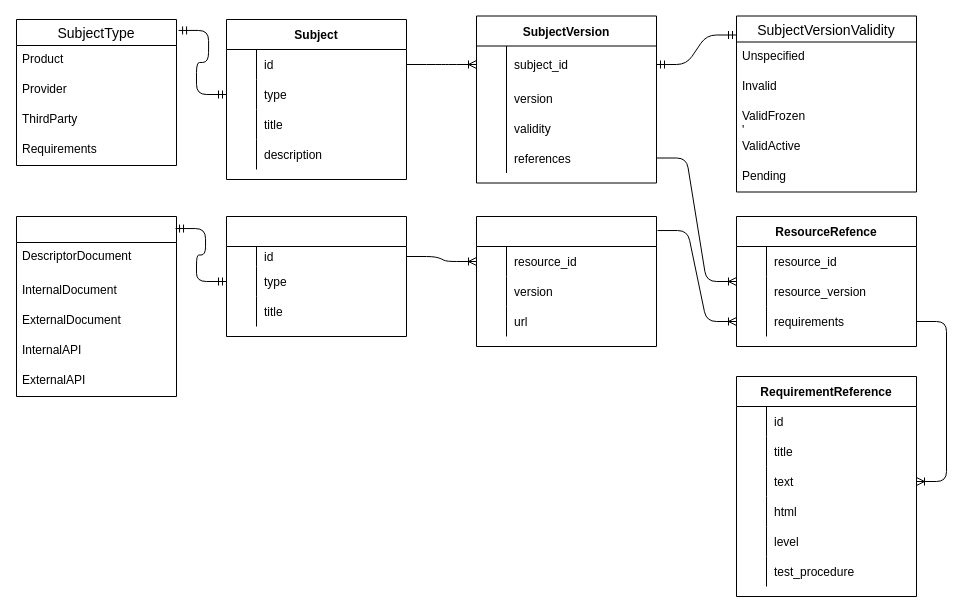
Image size: 963x613. Some labels were removed from this diagram. The shapes that lost their labels are listed below. From the top down, each one's box as (x1, y1, x2, y2) in pixels, then its label:
(226, 216, 406, 336): Resource
(476, 216, 656, 346): ResourceVersion
(16, 216, 176, 396): ResourceType
